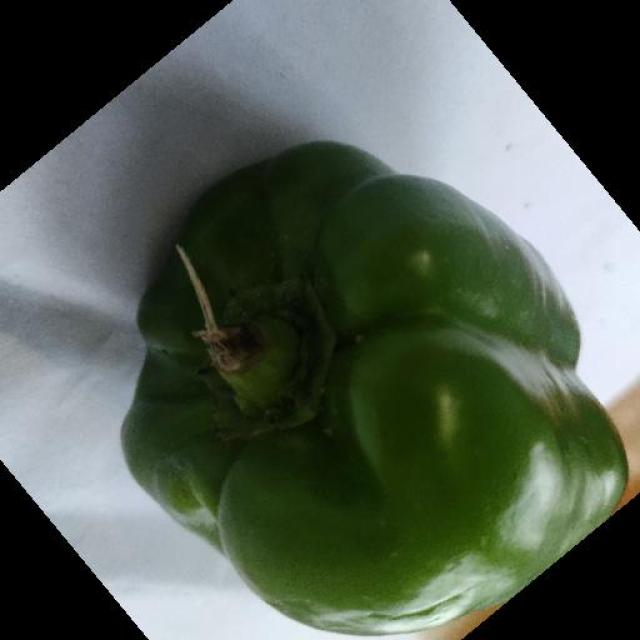Fresh_Capsicum: (140, 178, 595, 614)
